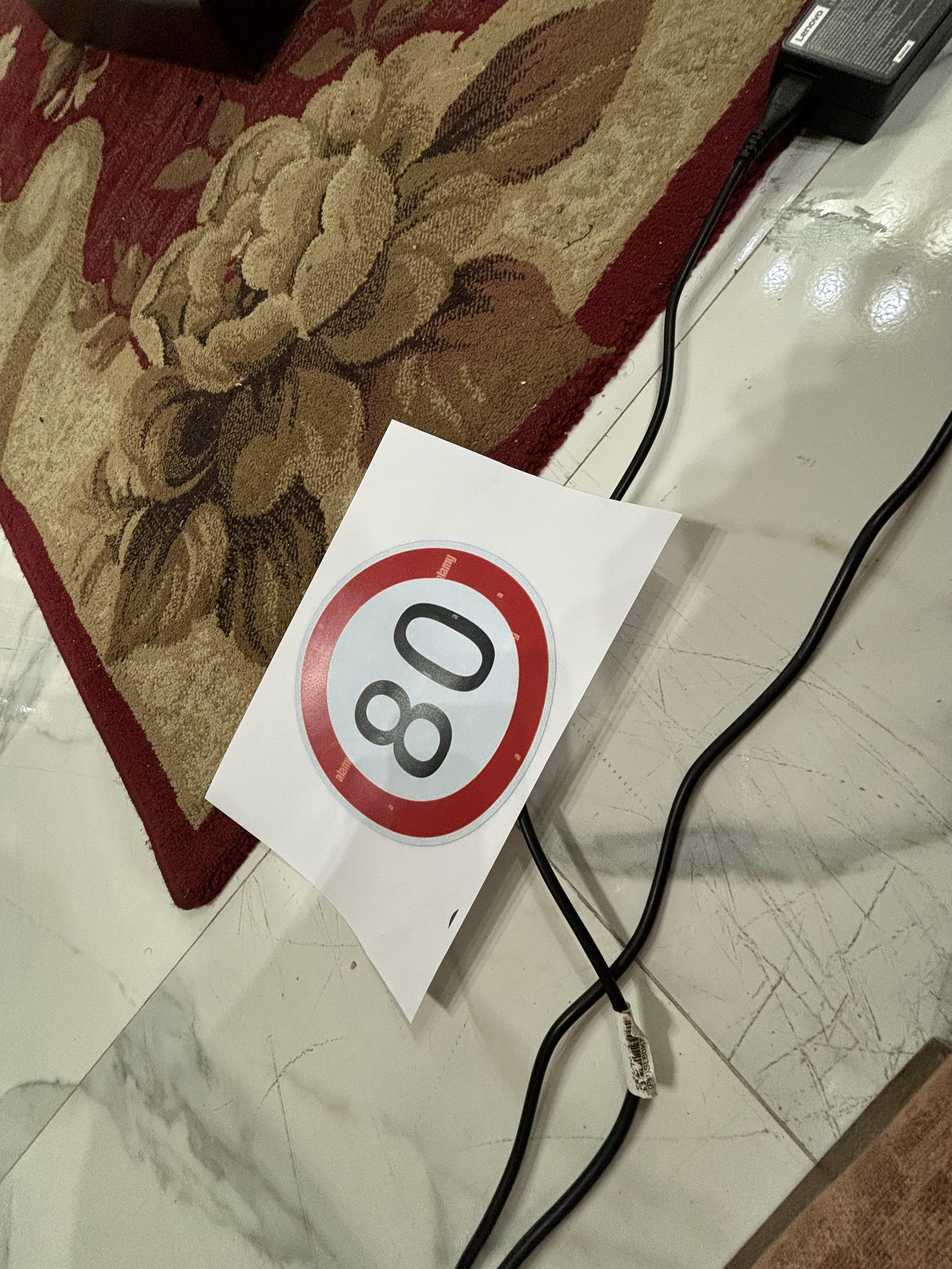80-Speed: (284, 542, 561, 838)
